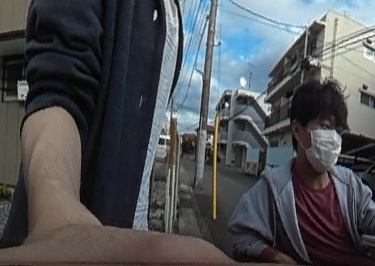person: (226, 79, 375, 266)
